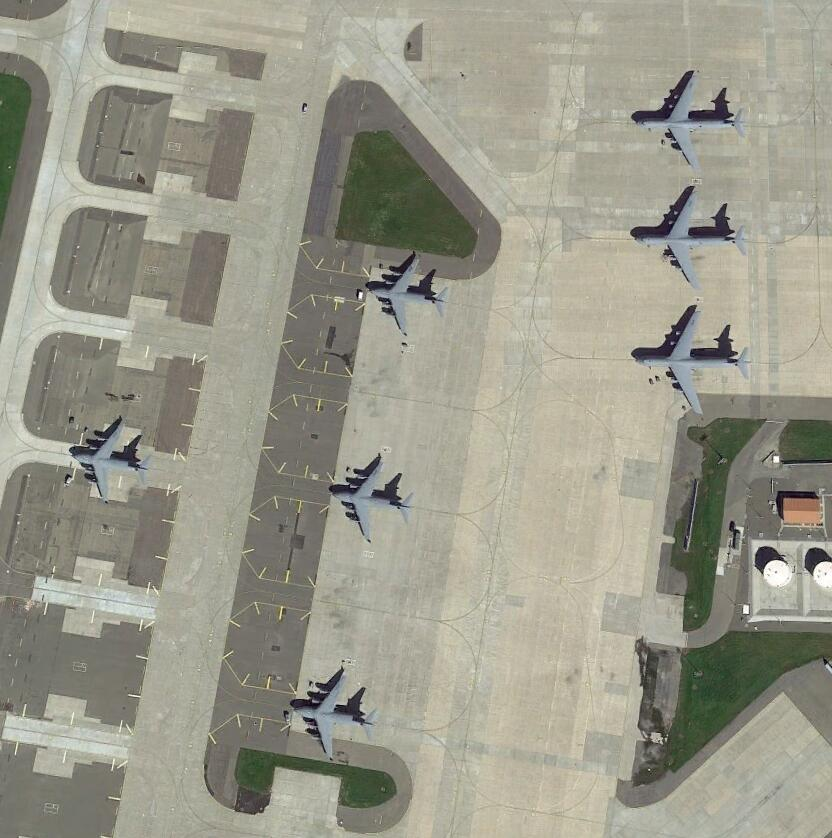A3: (327, 459, 416, 544), (290, 672, 380, 756), (68, 419, 153, 501), (366, 255, 450, 337)
A4: (634, 71, 750, 175), (633, 310, 749, 413), (630, 187, 749, 287)
